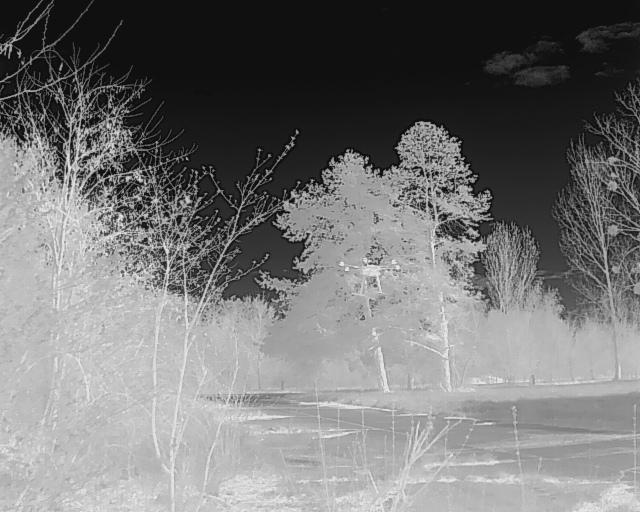drone: (335, 257, 406, 300)
